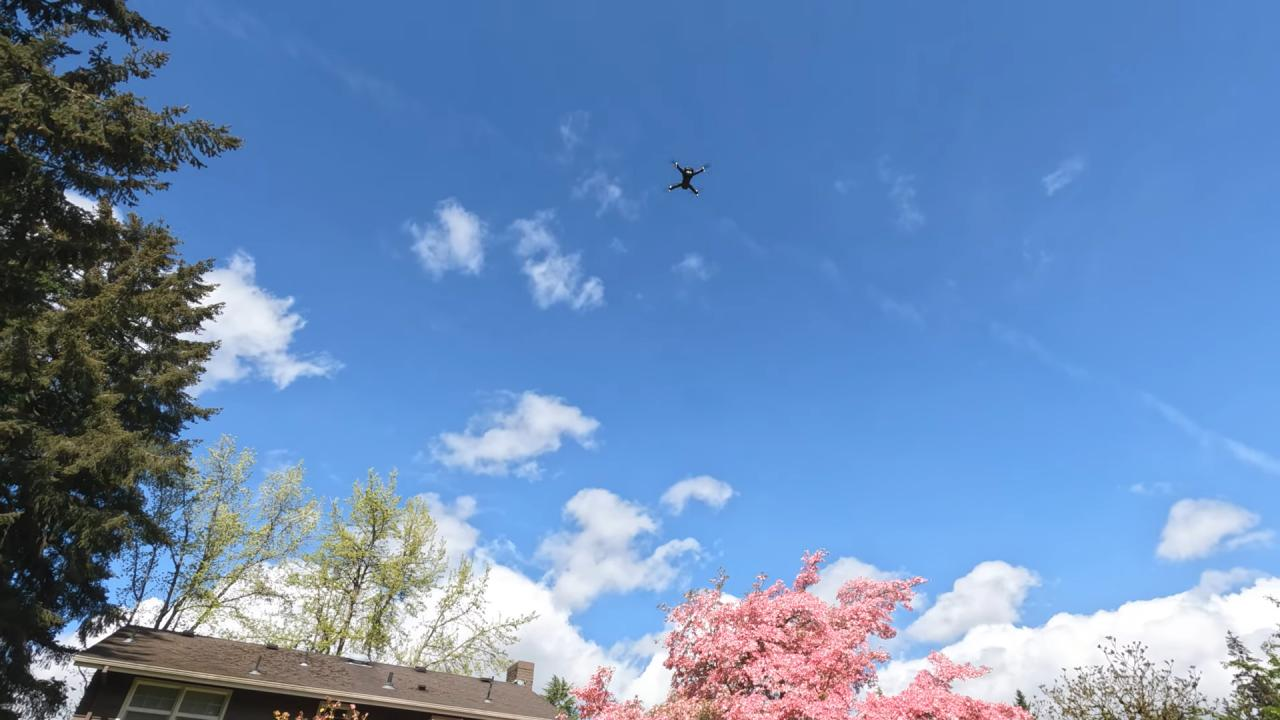Drone: (658, 152, 719, 206)
